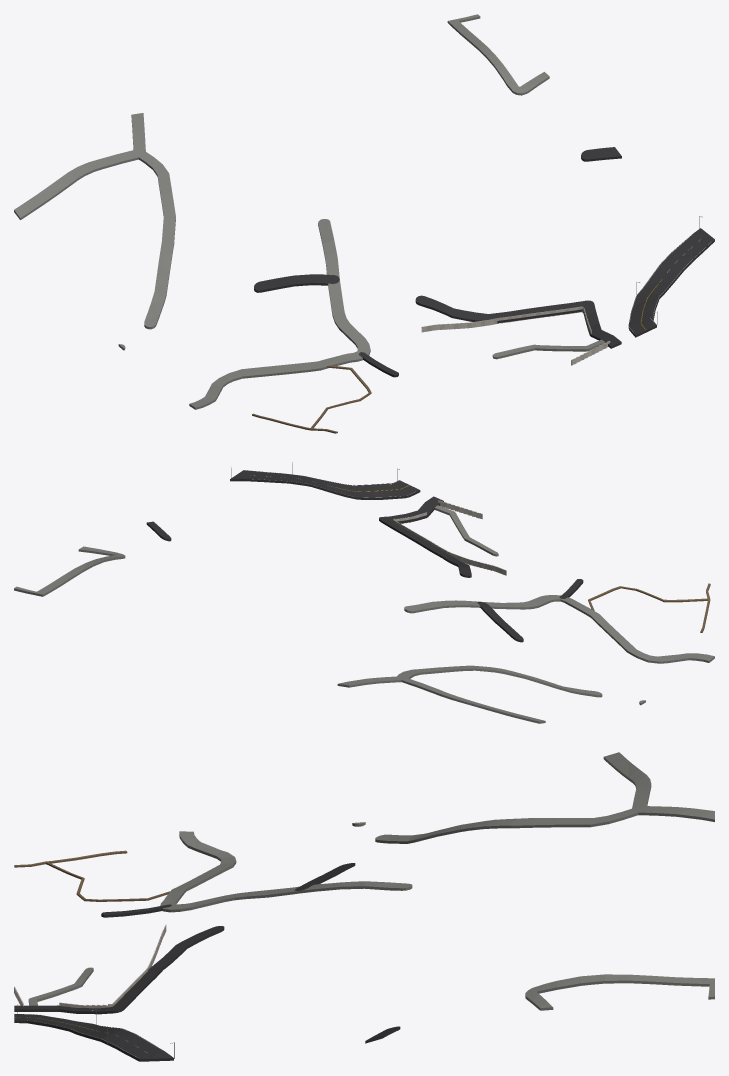
3 renders of one model, top to bottom at view 1: azimuth 30°, elevation 25°; view 2: azimuth 150°, elevation 25°; view 3: azimuth 270°, elevation 25°, orthographic. The views are drawn at different scales.
Bounding box in the file's own units: 294 × 62.8 × 292.
